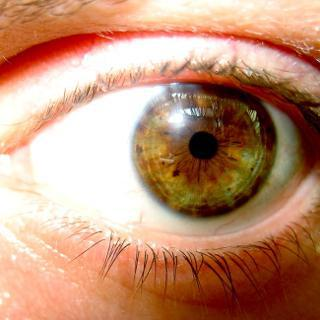pupil: (188, 132, 217, 160)
